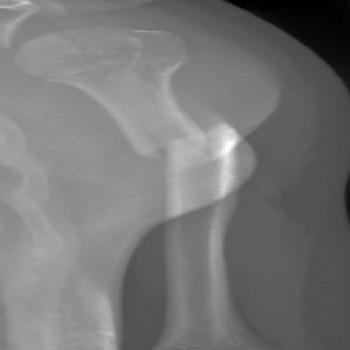Fracture: (125, 116, 244, 162)
